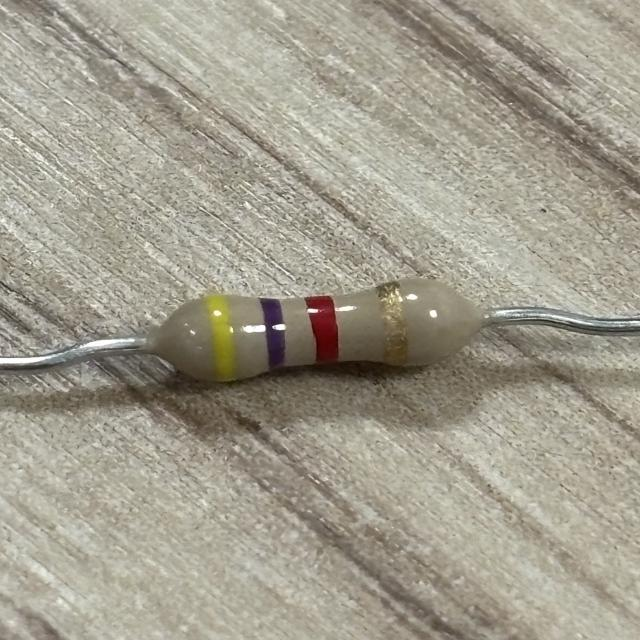resistor: (159, 264, 479, 390)
